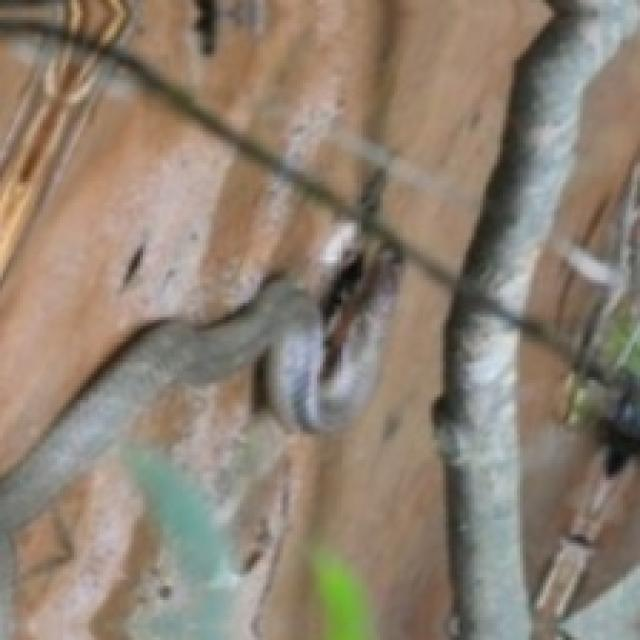king cobra: (0, 0, 549, 637), (437, 0, 637, 637), (529, 34, 637, 323), (517, 334, 600, 600)
